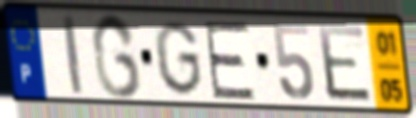5: (270, 21, 315, 103)
E: (315, 22, 376, 105), (201, 19, 258, 102)
G: (89, 11, 144, 102), (151, 18, 205, 99)
I: (59, 12, 86, 98)
